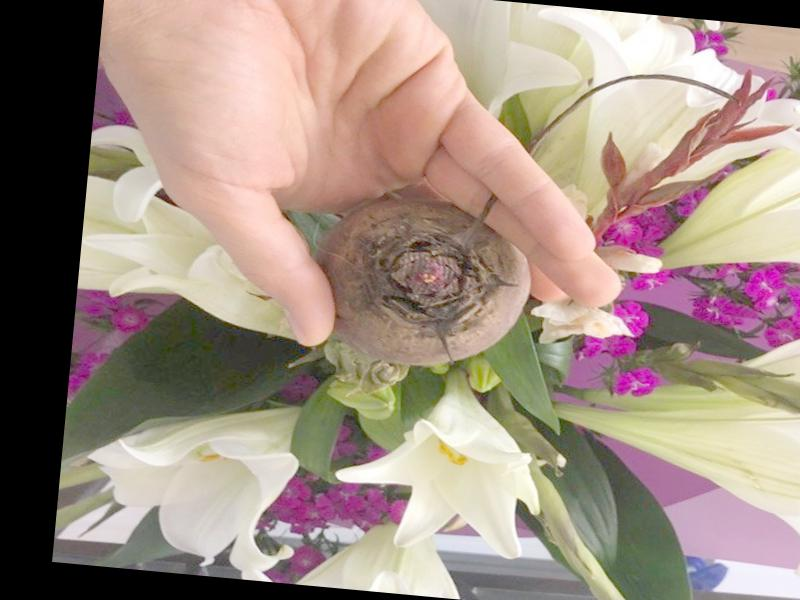Beet: (311, 184, 541, 376)
